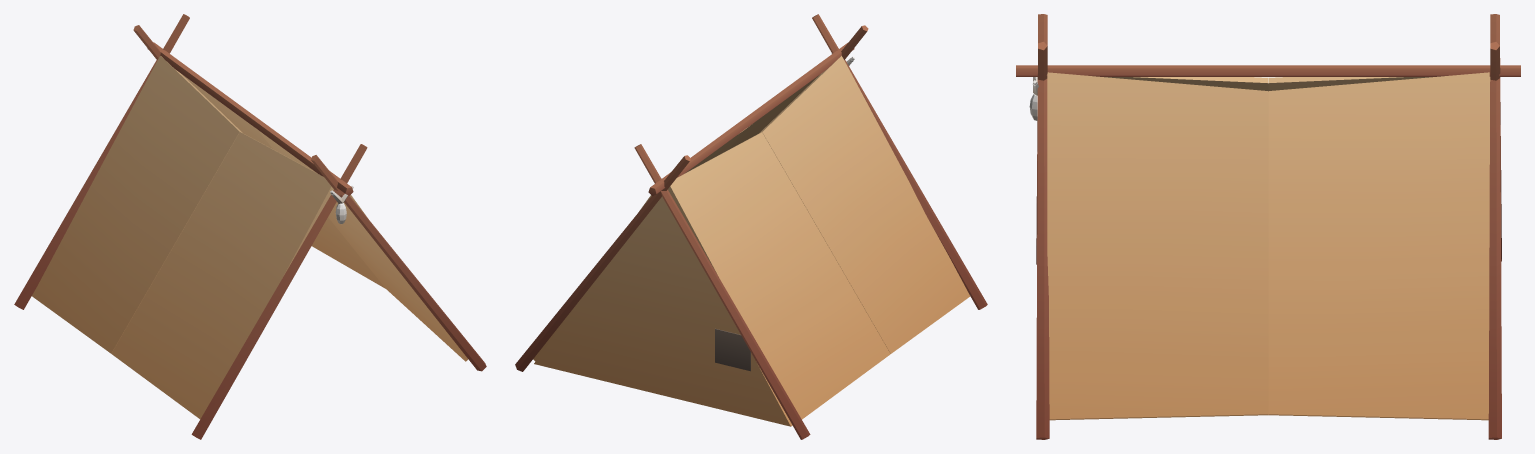
Rendered from tent.glb.
3 views of the same model, side by side, from view 1: azimuth 30°, elevation 25°; view 2: azimuth 150°, elevation 25°; view 3: azimuth 270°, elevation 25° (orthographic). The views are drawn at different scales.
Visible parts, largest first — view 1: tent; view 2: tent; view 3: tent.
Boxes of the visible parts, bbox=[...] form: tent: bbox=[14, 14, 486, 439]; tent: bbox=[515, 14, 987, 439]; tent: bbox=[1016, 14, 1520, 439].
Bounding box in the file's own units: 4.11 × 3.42 × 4.8.
Materials: 1 (1 with a texture image).
